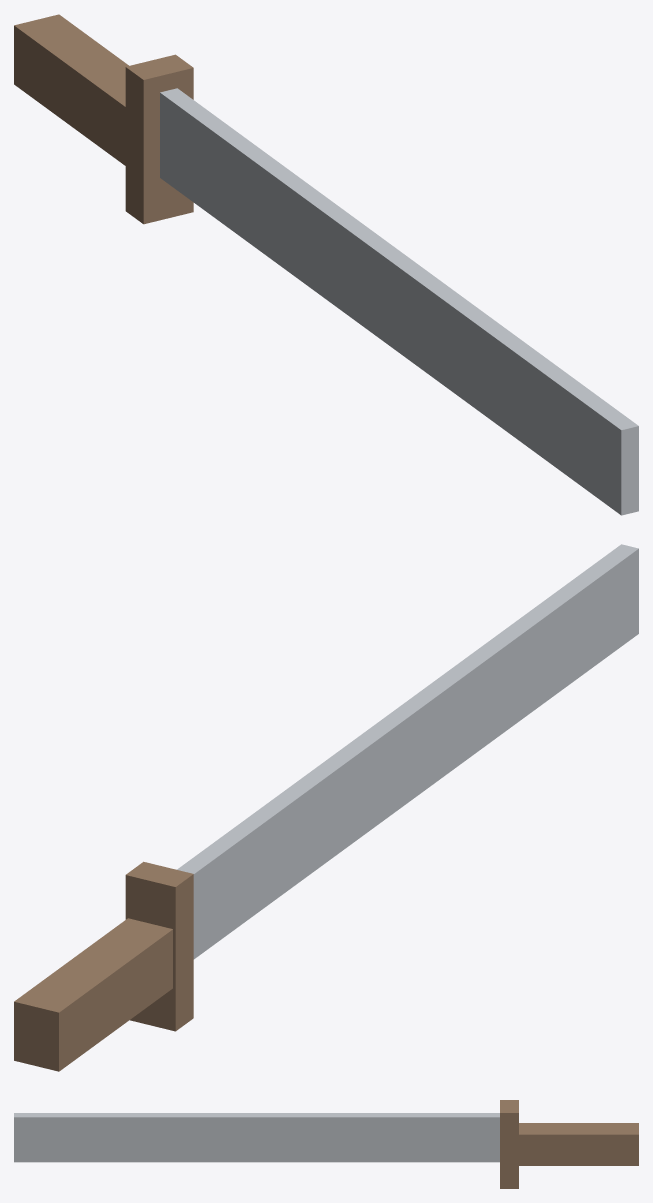
The model's file is weapon_scrap_blade.glb.
The picture shows the model from 3 angles, top to bottom: view 1: azimuth 30°, elevation 25°; view 2: azimuth 150°, elevation 25°; view 3: azimuth 270°, elevation 25°; orthographic projection. The views are drawn at different scales.
Visible parts, largest first — view 1: weapon_scrap_blade; view 2: weapon_scrap_blade; view 3: weapon_scrap_blade.
Part boxes in pixels (x1,y1,x2,y2): weapon_scrap_blade: (14,14,638,515); weapon_scrap_blade: (14,544,638,1071); weapon_scrap_blade: (14,1100,638,1188).
Bounding box in the file's own units: 0.04 × 0.11 × 0.82.
